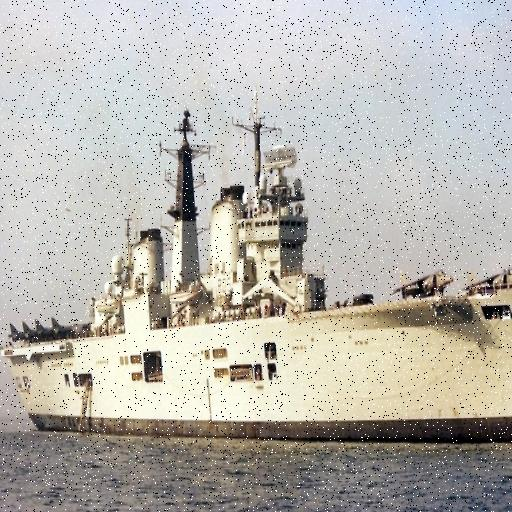Portanaves: (1, 84, 512, 466)
